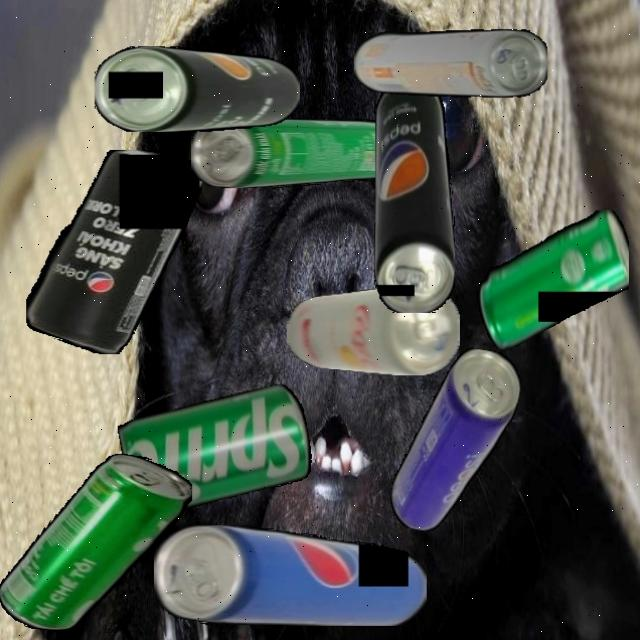debris: (25, 150, 202, 354), (0, 453, 192, 630), (386, 339, 526, 543), (154, 524, 427, 626), (116, 382, 317, 520), (478, 209, 629, 349), (373, 82, 455, 313), (94, 45, 300, 132), (286, 285, 460, 375), (191, 116, 405, 188), (353, 29, 548, 98)
